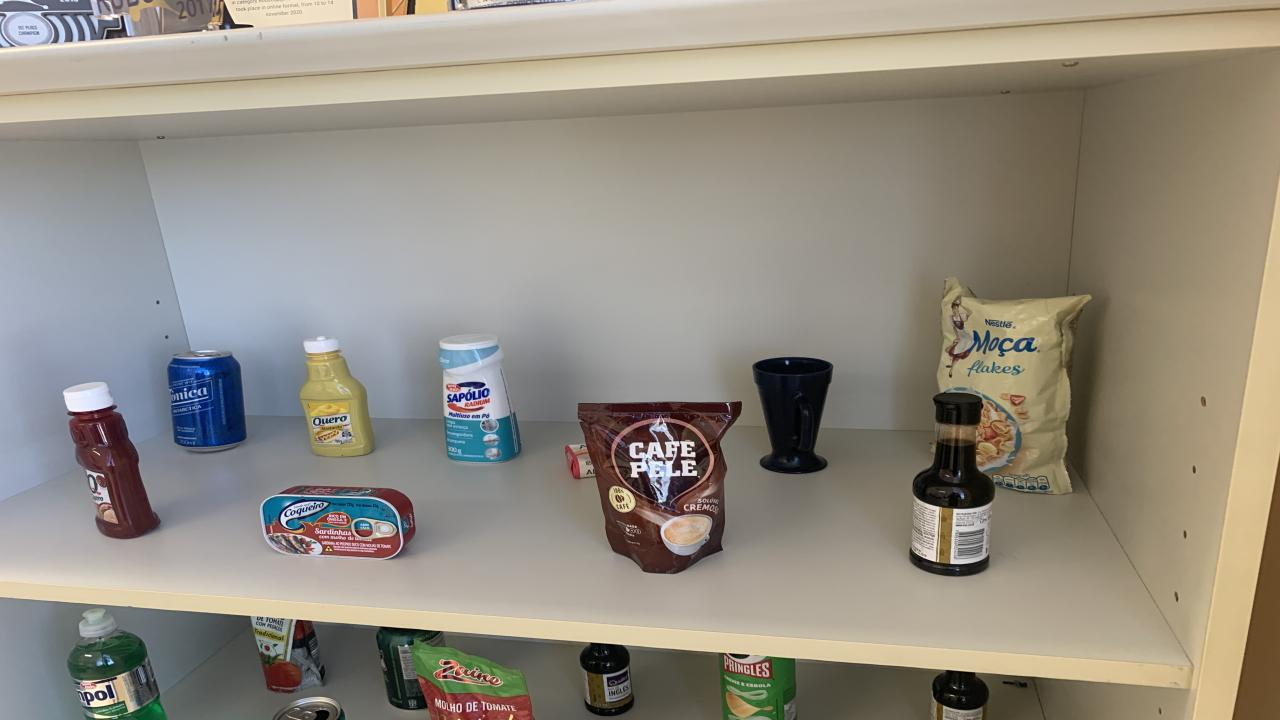Cleaner-Cleanup_Items: (438, 334, 520, 463)
Coffee-Pantry_Items: (578, 401, 742, 574)
Detergent-Cleanup_Items: (68, 608, 165, 720)
English_Sauce-Pantry_Items: (910, 392, 995, 576), (580, 643, 635, 716), (930, 671, 990, 720)
Flakes-Snacks: (938, 278, 1090, 493)
Guarana_Can-Drinks: (378, 626, 445, 709)
Ketchup-Pantry_Items: (62, 382, 160, 538)
Mustard-Pantry_Items: (300, 336, 375, 456)
Pringles-Snacks: (720, 652, 795, 720)
Soap-Cleanup_Items: (565, 444, 595, 478)
Tomato_Sauce-Pantry_Items: (410, 643, 532, 720), (250, 617, 325, 694)
Tonic-Drinks: (168, 351, 248, 452)
Tuna_Can-Pantry_Items: (260, 486, 415, 559)
